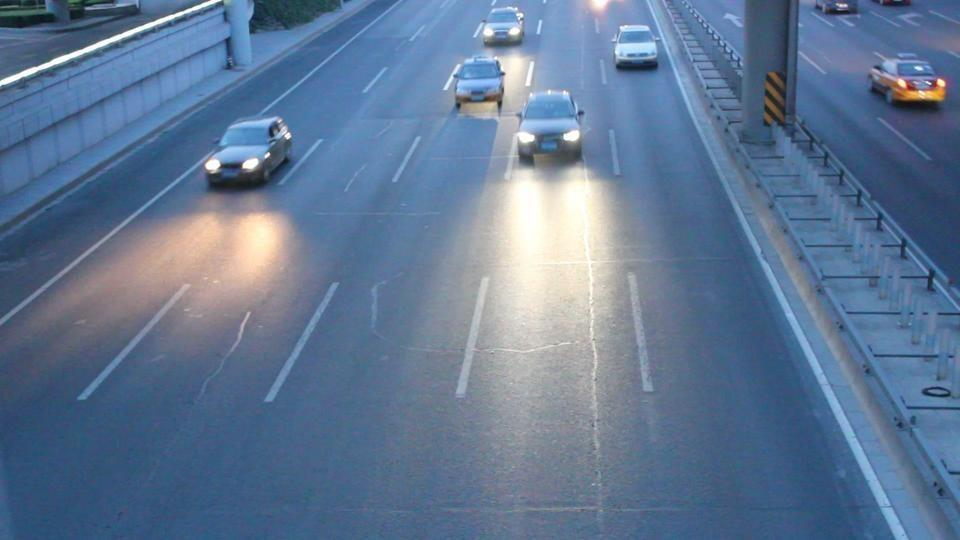car: (204, 116, 293, 189), (515, 90, 584, 162), (867, 55, 947, 105), (453, 57, 506, 108), (612, 25, 660, 70), (479, 8, 526, 46), (815, 0, 859, 16), (879, 0, 913, 8)
